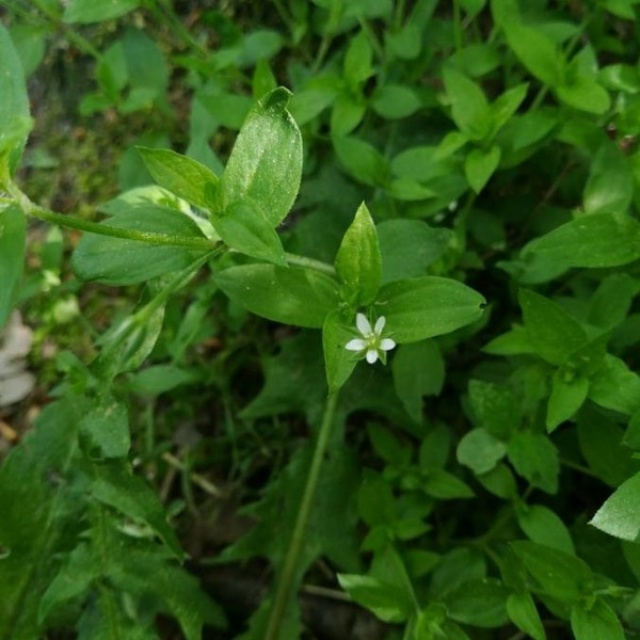obstacle: (102, 130, 489, 421)
